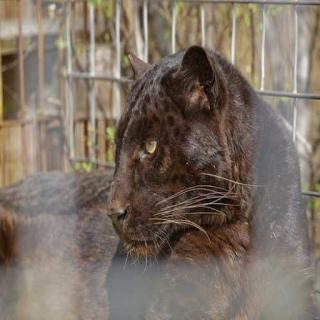Leopard: (98, 30, 304, 320)
